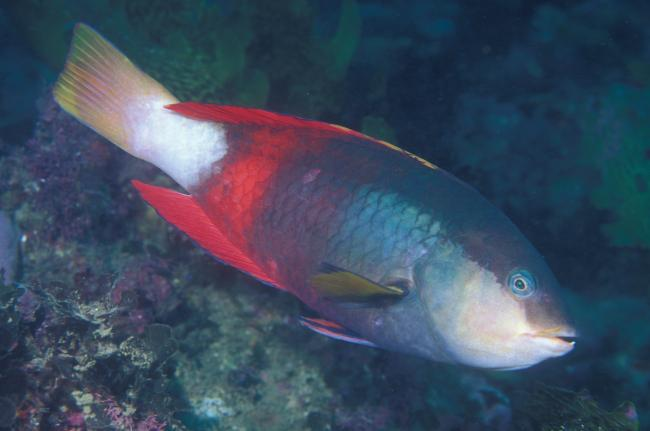fish: (52, 21, 579, 369)
